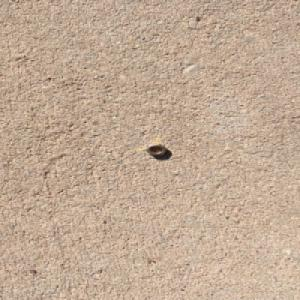Nut: (144, 143, 168, 156)
